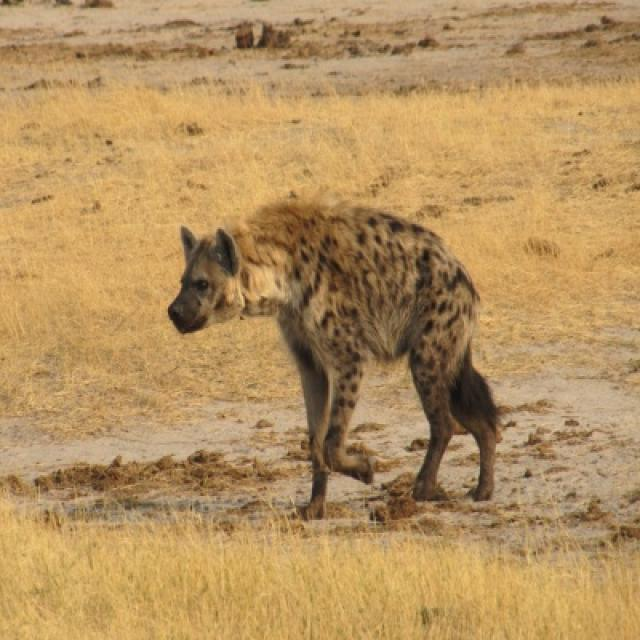hyena: (166, 200, 501, 520)
